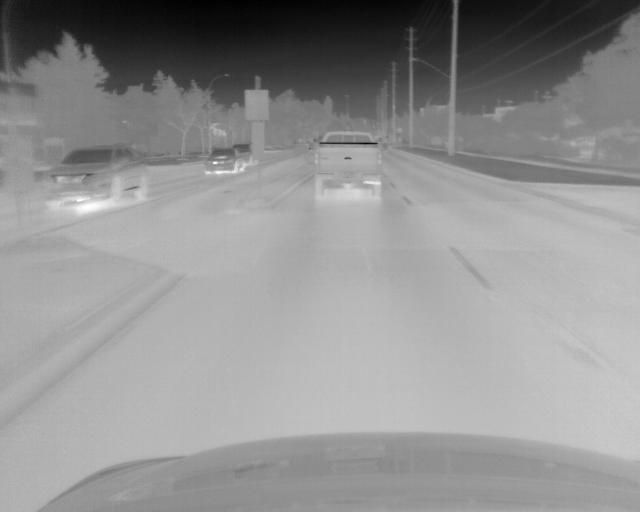car: (36, 142, 151, 211), (311, 130, 384, 202), (205, 147, 241, 174), (231, 142, 255, 168)
